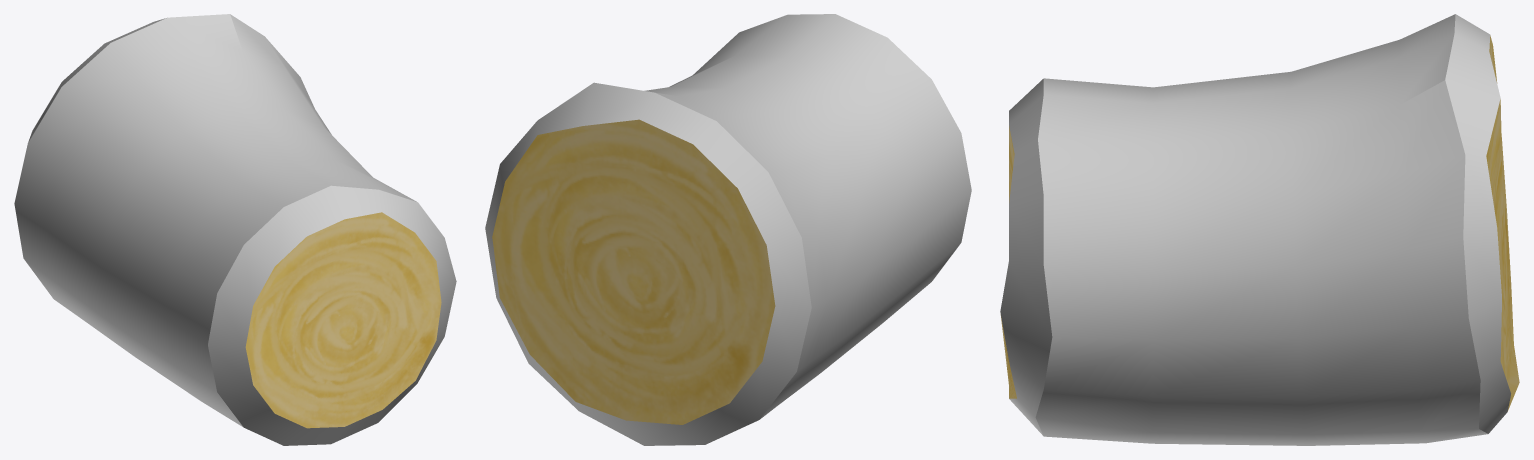
File: m_hay_01.fbx
The picture shows the model from 3 angles, left to right: view 1: azimuth 30°, elevation 25°; view 2: azimuth 150°, elevation 25°; view 3: azimuth 270°, elevation 25°; orthographic projection. The views are drawn at different scales.
Visible parts, largest first — view 1: m_hay_01; view 2: m_hay_01; view 3: m_hay_01.
Part boxes in pixels (x1,y1,x2,y2): m_hay_01: (14, 14, 456, 445); m_hay_01: (485, 14, 971, 445); m_hay_01: (1000, 14, 1519, 445).
Bounding box in the file's own units: 82.78 × 84.15 × 100.
